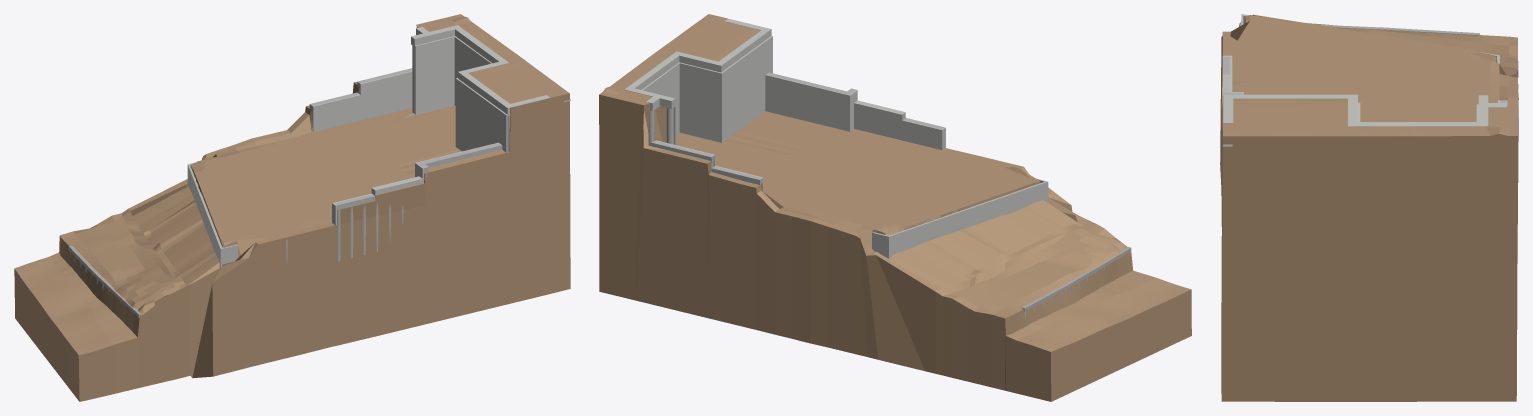
The model's file is shotcrete.glb.
The picture shows the model from 3 angles, left to right: view 1: azimuth 30°, elevation 25°; view 2: azimuth 150°, elevation 25°; view 3: azimuth 270°, elevation 25°; orthographic projection. The views are drawn at different scales.
Parts seen in each view (by area): view 1: Terrain 07 - SPW2+3.006, Shotcrete--SP4.001, CB1-RL10.008, CB1-RL9.023, Retaining wall.002, CB1-RL9.017, CB2-RL13.50.019, CB2-RL13.50.021, Cube.124; view 2: Terrain 07 - SPW2+3.006, Shotcrete--SP4.001, Retaining wall.002, CB1-RL9.026, CB1-RL9.004, CB1-RL8.010, CB2-RL13.50.019, Cube.124, CB2-RL13.50.021; view 3: Terrain 07 - SPW2+3.006, CB2-RL13.50.019, CB2-RL13.50.021, Cube.124, CB2-RL13.50.022, CB2-RL13.50.024, CB2-RL13.50.020.
Part boxes in pixels (left/top/right/bottom): Terrain 07 - SPW2+3.006: left=14, top=14, right=570, bottom=401; Shotcrete--SP4.001: left=411, top=36, right=570, bottom=152; CB1-RL10.008: left=360, top=71, right=412, bottom=120; CB1-RL9.023: left=312, top=94, right=360, bottom=131; Retaining wall.002: left=187, top=162, right=238, bottom=267; CB1-RL9.017: left=417, top=143, right=502, bottom=172; CB2-RL13.50.019: left=458, top=71, right=513, bottom=114; CB2-RL13.50.021: left=452, top=25, right=507, bottom=63; Cube.124: left=68, top=245, right=142, bottom=317; Terrain 07 - SPW2+3.006: left=599, top=14, right=1191, bottom=401; Shotcrete--SP4.001: left=641, top=36, right=772, bottom=144; Retaining wall.002: left=872, top=179, right=1048, bottom=256; CB1-RL9.026: left=765, top=74, right=857, bottom=131; CB1-RL9.004: left=854, top=102, right=902, bottom=140; CB1-RL8.010: left=902, top=120, right=945, bottom=150; CB2-RL13.50.019: left=715, top=27, right=771, bottom=72; Cube.124: left=1022, top=247, right=1131, bottom=311; CB2-RL13.50.021: left=625, top=51, right=682, bottom=89; Terrain 07 - SPW2+3.006: left=1220, top=14, right=1518, bottom=401; CB2-RL13.50.019: left=1223, top=94, right=1357, bottom=99; CB2-RL13.50.021: left=1348, top=122, right=1487, bottom=126; Cube.124: left=1240, top=22, right=1479, bottom=35; CB2-RL13.50.022: left=1478, top=95, right=1488, bottom=126; CB2-RL13.50.024: left=1223, top=94, right=1233, bottom=123; CB2-RL13.50.020: left=1348, top=95, right=1357, bottom=125.
Size of the model in its own units: 45.82 by 17.8 by 17.99.
